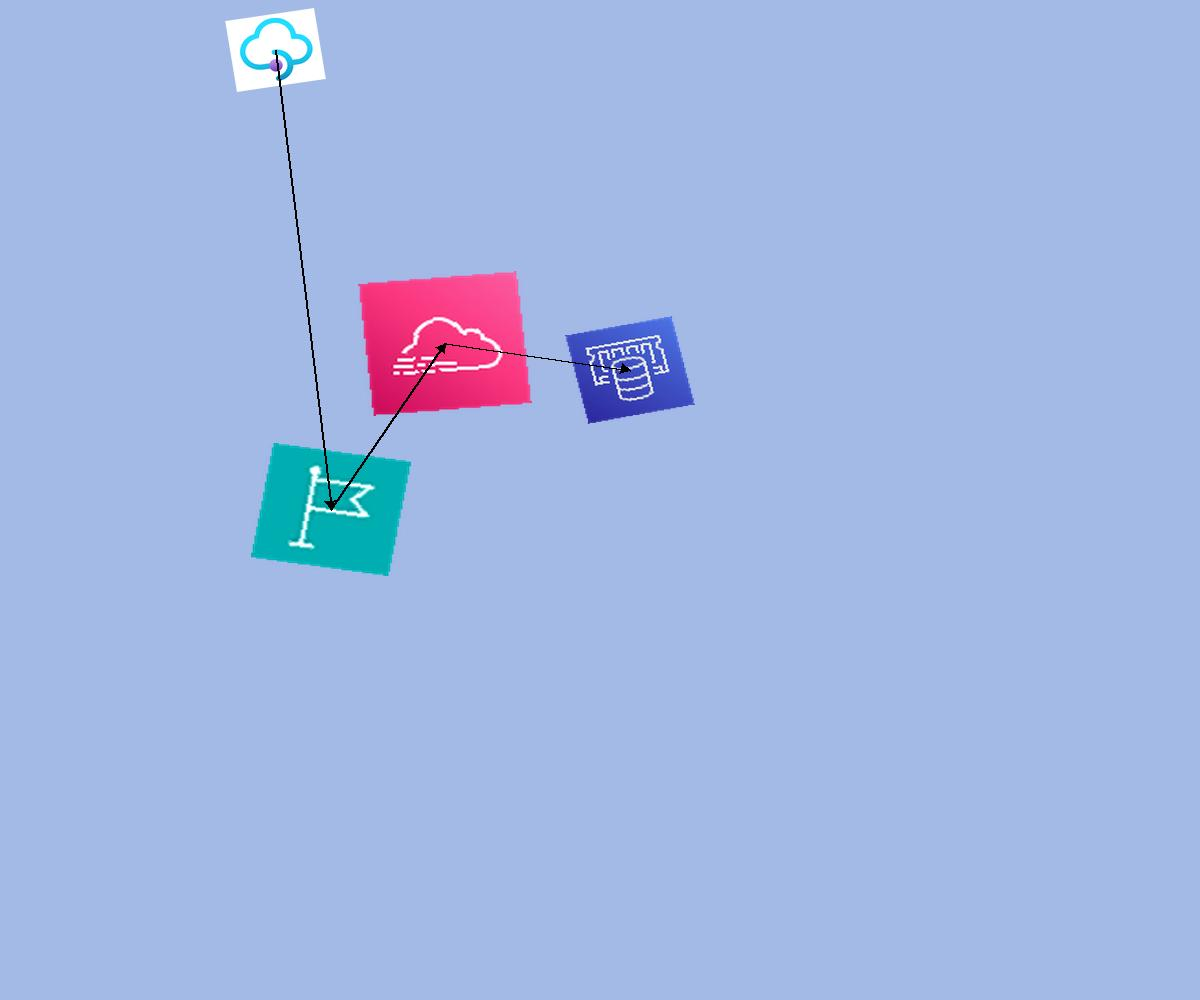AWS-CloudTrail: (358, 271, 532, 416)
AWS-ElastiCache: (565, 316, 695, 424)
AWS-Region: (251, 443, 411, 576)
Azure_api_gateway: (225, 8, 326, 92)
